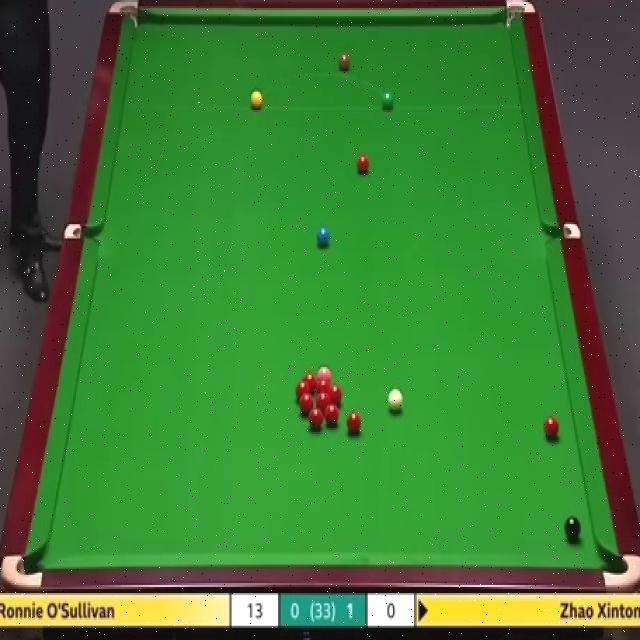black-ball: (564, 513, 581, 542)
blue-ball: (316, 226, 330, 248)
brown-ball: (339, 53, 352, 68)
green-ball: (381, 90, 395, 108)
pink-ball: (318, 366, 332, 377)
red-ball: (324, 402, 339, 425), (347, 411, 362, 433), (545, 415, 559, 437), (299, 393, 313, 415), (308, 407, 322, 428), (330, 384, 344, 405), (357, 153, 369, 174), (303, 371, 317, 388), (294, 381, 309, 394), (318, 375, 330, 391), (316, 393, 331, 404)
white-ball: (386, 388, 404, 418)
yellow-ball: (250, 88, 262, 110)
